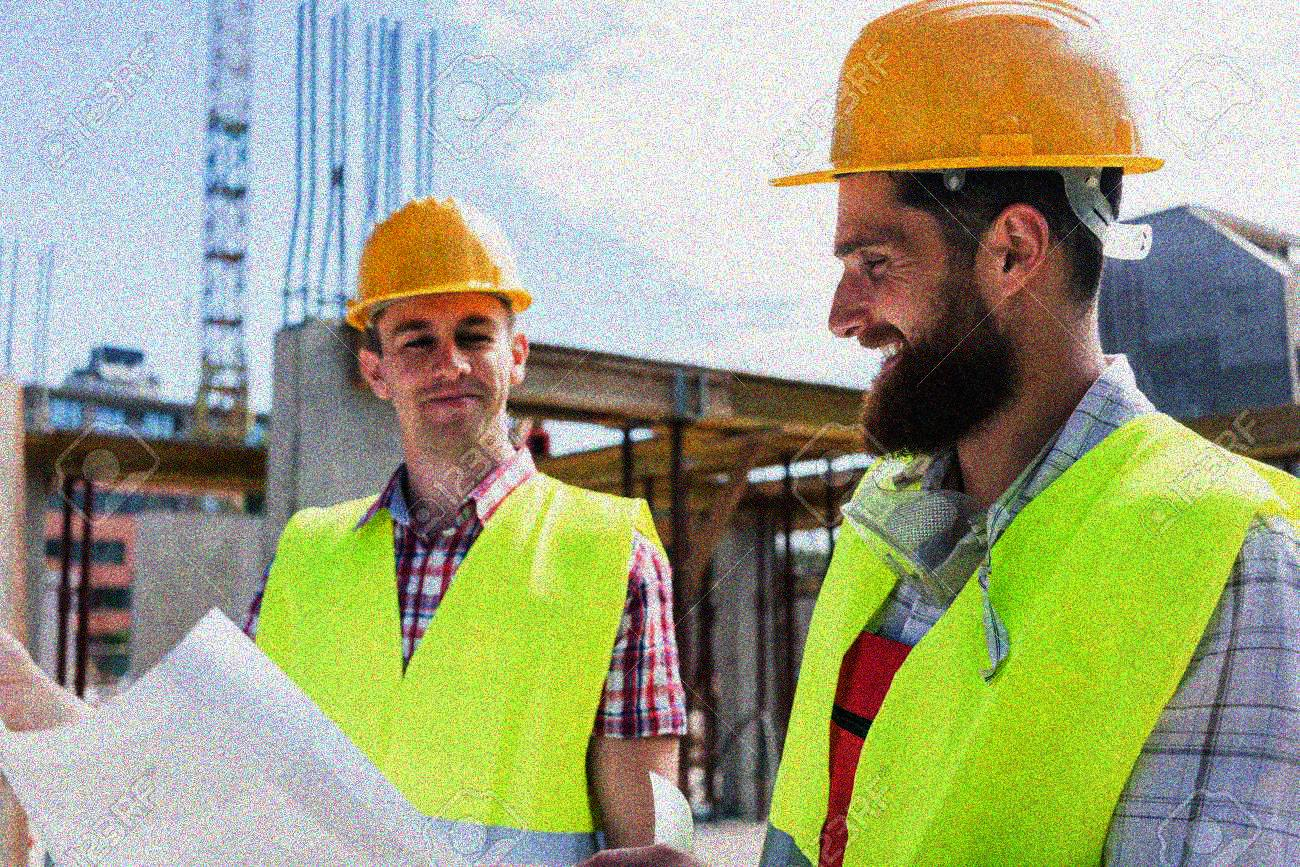helmet: (768, 1, 1170, 455), (346, 193, 535, 454)
